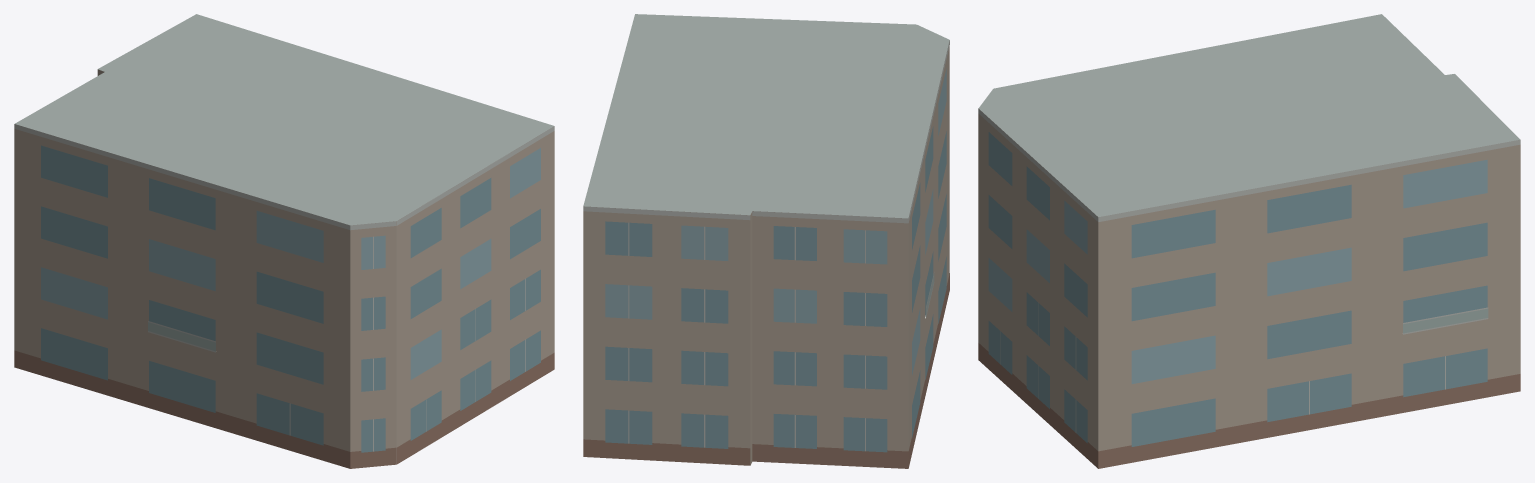
The model's file is survey-upis-32697361.glb.
The picture shows the model from 3 angles, left to right: view 1: azimuth 30°, elevation 25°; view 2: azimuth 150°, elevation 25°; view 3: azimuth 270°, elevation 25°; orthographic projection. The views are drawn at different scales.
Parts seen in each view (by area): view 1: survey-upis-32697361.tmp; view 2: survey-upis-32697361.tmp; view 3: survey-upis-32697361.tmp.
Boxes of the visible parts, x1,y1,x2,y2 form: survey-upis-32697361.tmp: (14,14,554,468); survey-upis-32697361.tmp: (583,14,949,468); survey-upis-32697361.tmp: (978,14,1520,468).
Size of the model in its own units: 21.49 by 12.4 by 24.22.
